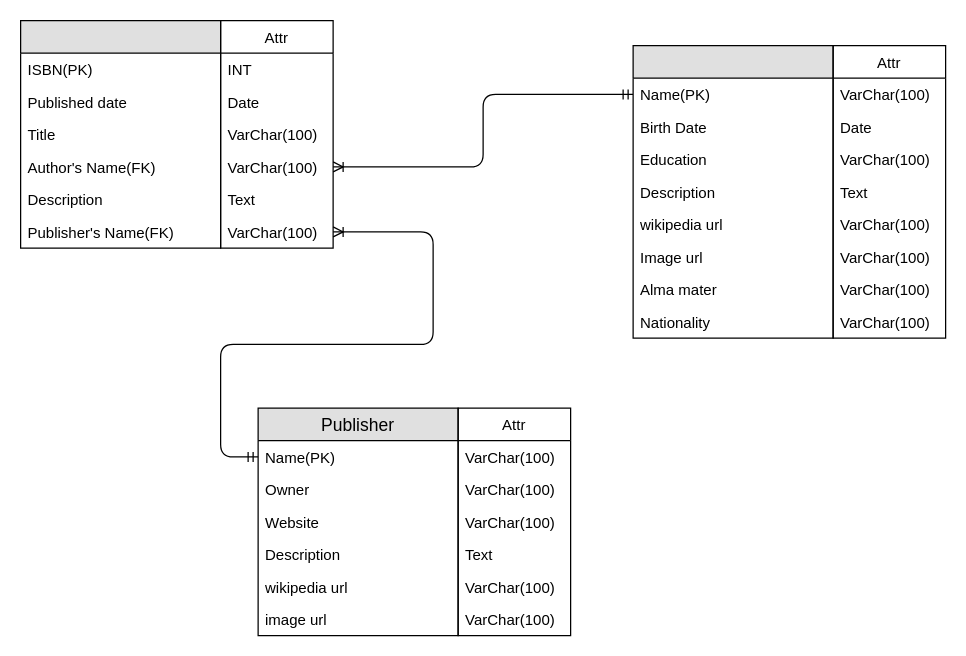
The diagram is 966 pixels wide and 656 high, and some of its shapes have lost their labels. The box of each missing label's shape, as (x1, y1, x2, y2) in pixels:
Author: (632, 44, 833, 338)
Book: (19, 19, 221, 248)
